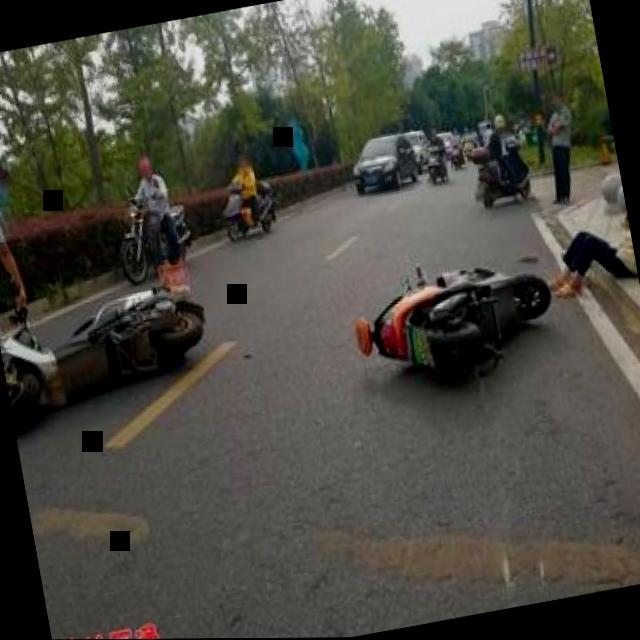Fall-Detected: (515, 141, 640, 313)
